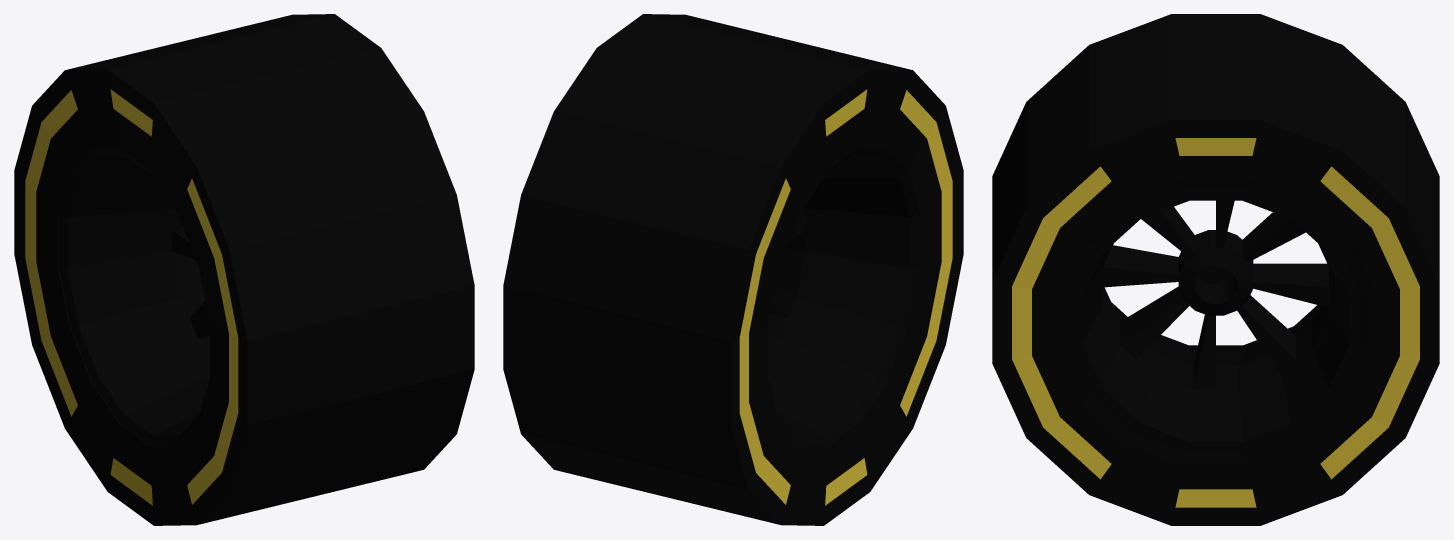
File: rear-tyre.glb
3 views of the same model, side by side, from view 1: azimuth 30°, elevation 25°; view 2: azimuth 150°, elevation 25°; view 3: azimuth 270°, elevation 25° (orthographic). The views are drawn at different scales.
Visible parts, largest first — view 1: Tyre; view 2: Tyre; view 3: Tyre.
Boxes of the visible parts, box(x1,y1,x2,y2) form: Tyre: box(14, 14, 474, 525); Tyre: box(503, 14, 963, 525); Tyre: box(992, 14, 1439, 525).
Bounding box in the file's own units: 0.405 × 0.72 × 0.72.
